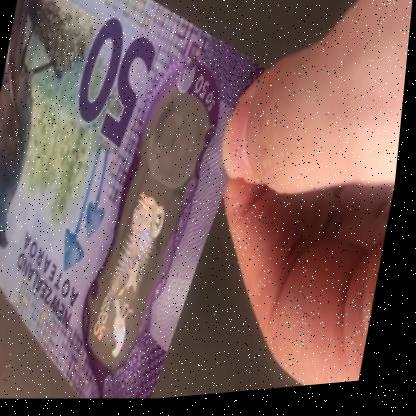50B: (94, 95, 199, 369)
